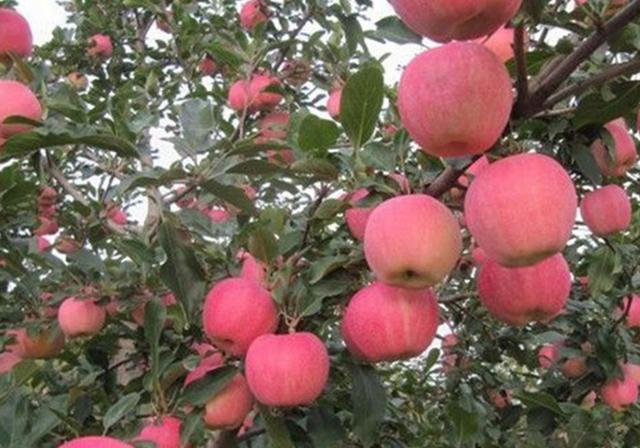apple: (460, 153, 577, 314), (397, 45, 506, 163), (463, 151, 575, 265), (362, 194, 461, 289), (345, 283, 437, 363), (479, 251, 569, 320), (246, 330, 326, 405), (202, 278, 279, 353), (1, 79, 43, 145), (582, 183, 630, 238), (58, 293, 103, 342), (1, 10, 32, 68)
